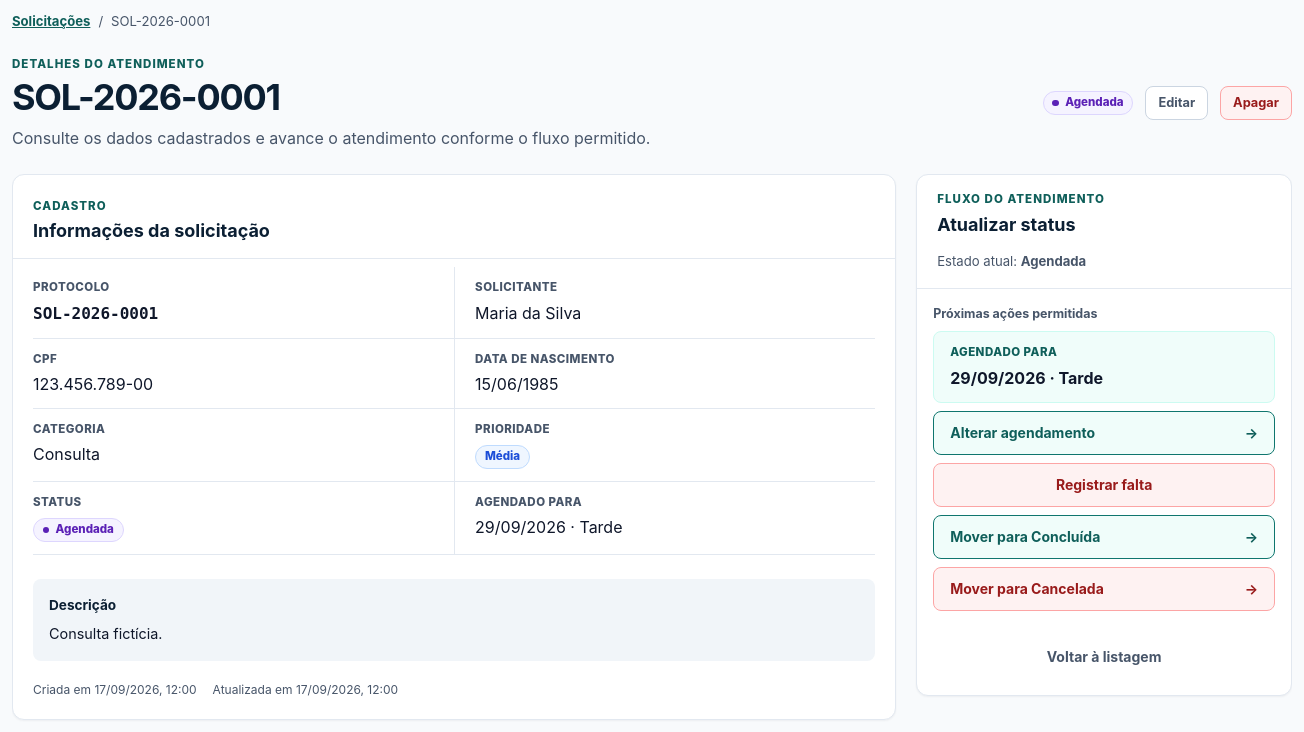
Scenario: Agendamento no detalhe da solicitação › exibe e preenche agendamento por turno no detalhe
Check: the text "29/09/2026 · Tarde" below "Média" is shown, box [475,517,622,537]
What coordinates should you click on to do the following:
click the button "Alterar agendamento →"
I would click on:
 (1023, 432)
Its box is [933,411,1275,455].
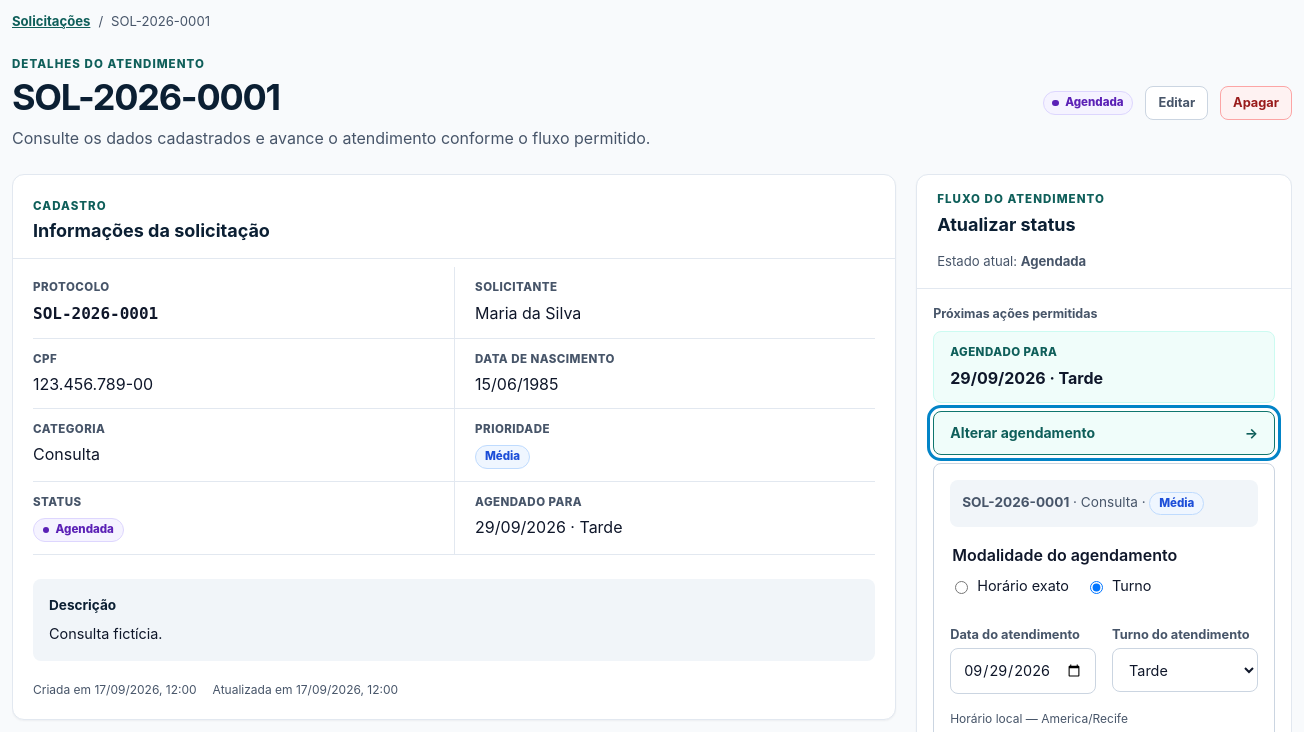
Check: the date field labelled "Data do atendimento" holds "2026-09-29", box [950,648,1096,694]
Check: the dropdown labelled "Turno do atendimento" shows "Tarde", box [1112,648,1258,692]
